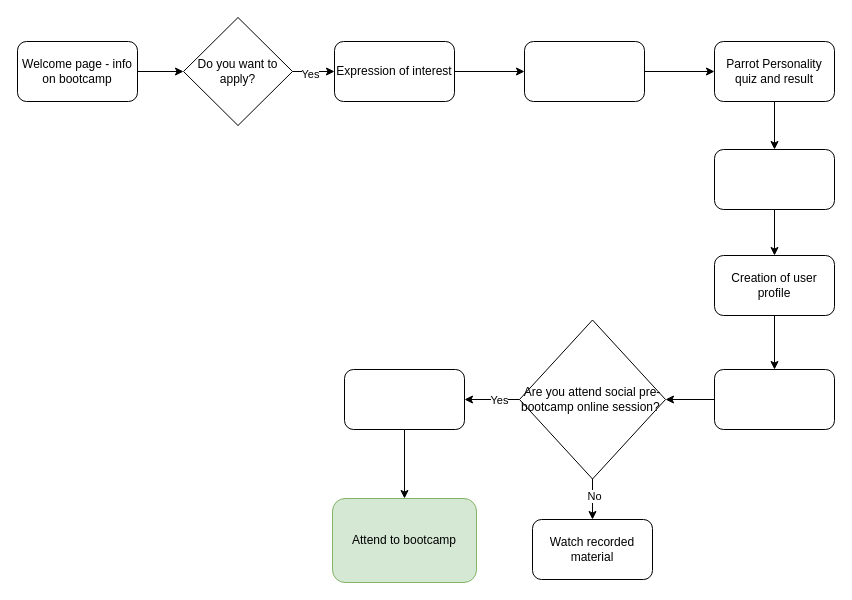
This 852x600 diagram has some shape labels left out. Here are the shapes that lost their labels. From the top down, the centre of each, then its label:
At point 584,71: "Receive and fill out owner questions".
At point 774,179: "Submit photo of parrot".
At point 404,399: "Attend online session".
At point 774,399: "Watch educational taster video".
